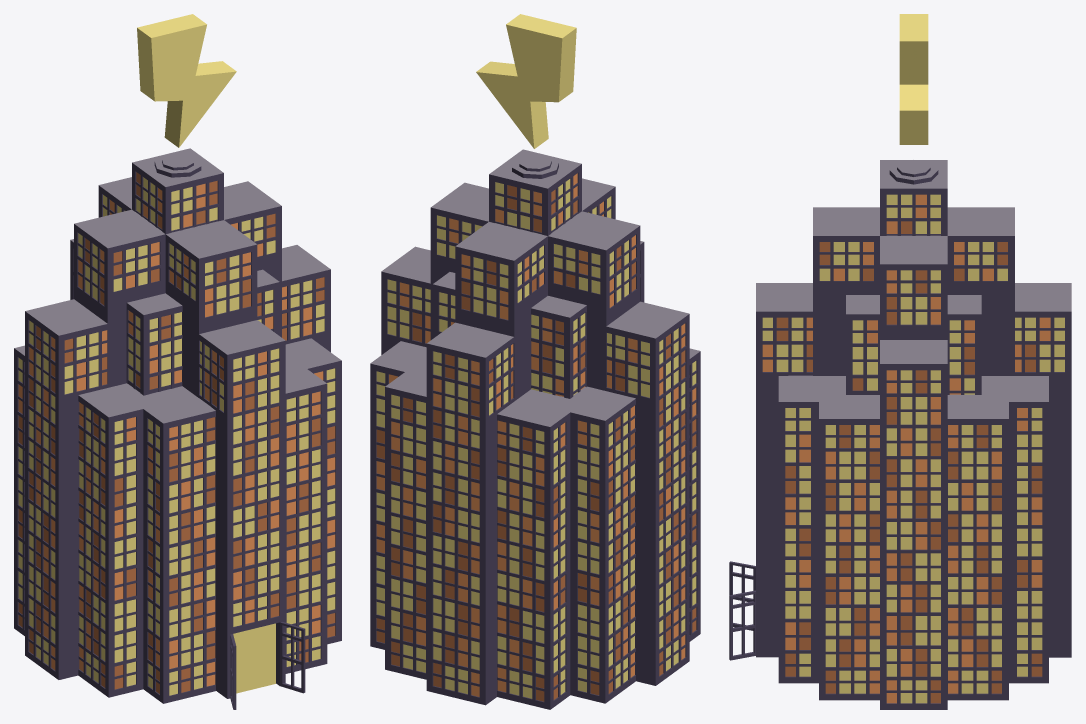
File: evil skyscraper fbx.fbx
The picture shows the model from 3 angles, left to right: view 1: azimuth 30°, elevation 25°; view 2: azimuth 150°, elevation 25°; view 3: azimuth 270°, elevation 25°; orthographic projection.
Parts seen in each view (by area): view 1: pCube9, pCube32, pCube33, pCube28, pCube24 (×2), pCube8, pCube1, pCube23, pCube2, pCube4, pCube36 (×2), pCube35 (+6 smaller); view 2: pCube33 (×2), pCube28 (×2), pCube39, pCube25, pCube36 (×2), pCube41, pCube24 (×2), pCube1, pCube40, pCube2, pCube26, pCube14 (+4 smaller); view 3: pCube35, pCube40, pCube23, pCube36 (×2), pCube8, pCube41, pCube9, pCube24, pCube28, pCube25, pCube34, pCube2 (+7 smaller).
Part boxes in pixels (left/top/right/bottom): pCube9: left=193, top=320, right=285, bottom=698; pCube32: left=130, top=386, right=215, bottom=703; pCube33: left=78, top=383, right=166, bottom=697; pCube28: left=25, top=299, right=117, bottom=666; pCube24 (×2): left=74, top=209, right=257, bottom=397; pCube8: left=285, top=359, right=327, bottom=673; pCube1: left=137, top=14, right=236, bottom=147; pCube23: left=285, top=338, right=341, bottom=644; pCube2: left=132, top=148, right=223, bottom=234; pCube4: left=126, top=293, right=182, bottom=395; pCube36 (×2): left=98, top=177, right=281, bottom=337; pCube35: left=280, top=245, right=330, bottom=352; pCube33 (×2): left=497, top=348, right=700, bottom=709; pCube28 (×2): left=427, top=301, right=689, bottom=684; pCube39: left=548, top=386, right=635, bottom=703; pCube25: left=426, top=323, right=519, bottom=621; pCube36 (×2): left=430, top=182, right=547, bottom=401; pCube41: left=385, top=365, right=426, bottom=679; pCube24 (×2): left=548, top=178, right=640, bottom=388; pCube1: left=476, top=14, right=576, bottom=148; pCube40: left=370, top=341, right=426, bottom=649; pCube2: left=489, top=149, right=581, bottom=235; pCube26: left=426, top=605, right=496, bottom=705; pCube14: left=531, top=296, right=586, bottom=398; pCube35: left=880, top=340, right=947, bottom=626; pCube40: left=947, top=390, right=1008, bottom=700; pCube23: left=819, top=394, right=879, bottom=700; pCube36 (×2): left=880, top=207, right=1014, bottom=375; pCube8: left=778, top=375, right=846, bottom=683; pCube41: left=981, top=376, right=1048, bottom=683; pCube9: left=756, top=283, right=823, bottom=657; pCube24: left=813, top=207, right=879, bottom=375; pCube28: left=1004, top=283, right=1071, bottom=644; pCube25: left=1004, top=283, right=1071, bottom=573; pCube34: left=880, top=617, right=947, bottom=709; pCube2: left=880, top=160, right=947, bottom=235.
Bounding box in the file's own units: 41.7 × 89.32 × 45.23.
